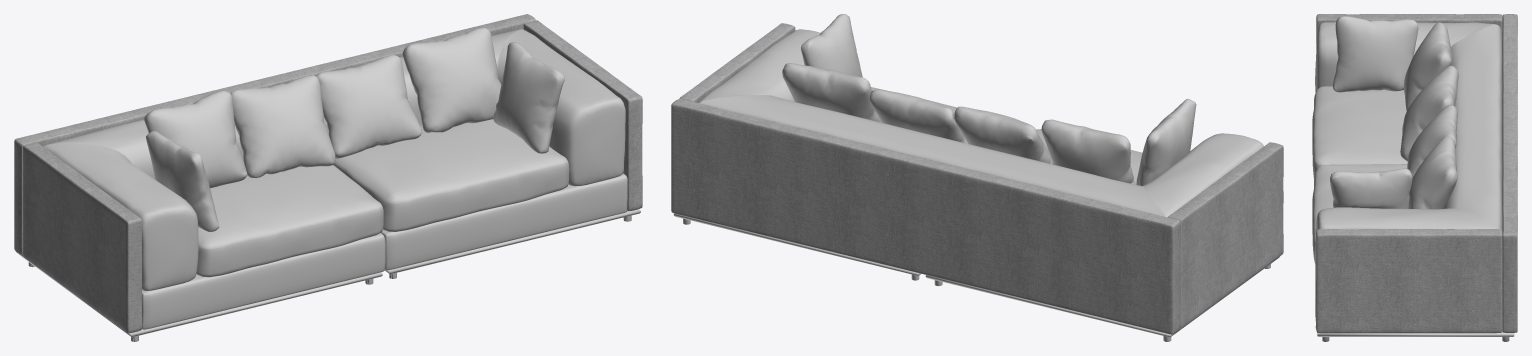
Rendered from moder sofa.fbx.
3 renders of one model, left to right at view 1: azimuth 30°, elevation 25°; view 2: azimuth 150°, elevation 25°; view 3: azimuth 270°, elevation 25°, orthographic. The views are drawn at different scales.
Parts seen in each view (by area): view 1: defaultMaterial, defaultMaterial.005, defaultMaterial.003, defaultMaterial.002, defaultMaterial.004, defaultMaterial.001; view 2: defaultMaterial.003, defaultMaterial, defaultMaterial.002, defaultMaterial.001, defaultMaterial.005; view 3: defaultMaterial.003, defaultMaterial, defaultMaterial.002, defaultMaterial.005, defaultMaterial.001.
Boxes of the visible parts, left/top/right/bottom form: defaultMaterial: left=144, top=28, right=564, bottom=231; defaultMaterial.005: left=196, top=119, right=569, bottom=277; defaultMaterial.003: left=14, top=14, right=642, bottom=333; defaultMaterial.002: left=43, top=29, right=625, bottom=290; defaultMaterial.004: left=142, top=173, right=627, bottom=329; defaultMaterial.001: left=20, top=209, right=640, bottom=341; defaultMaterial.003: left=671, top=23, right=1283, bottom=334; defaultMaterial: left=782, top=14, right=1196, bottom=185; defaultMaterial.002: left=699, top=29, right=1263, bottom=217; defaultMaterial.001: left=674, top=213, right=1279, bottom=341; defaultMaterial.005: left=871, top=87, right=1142, bottom=183; defaultMaterial.003: left=1315, top=14, right=1517, bottom=333; defaultMaterial: left=1330, top=16, right=1458, bottom=209; defaultMaterial.002: left=1315, top=22, right=1502, bottom=280; defaultMaterial.005: left=1312, top=86, right=1407, bottom=262; defaultMaterial.001: left=1317, top=331, right=1514, bottom=341.
Size of the model in its own units: 200 by 60.17 by 78.37.
